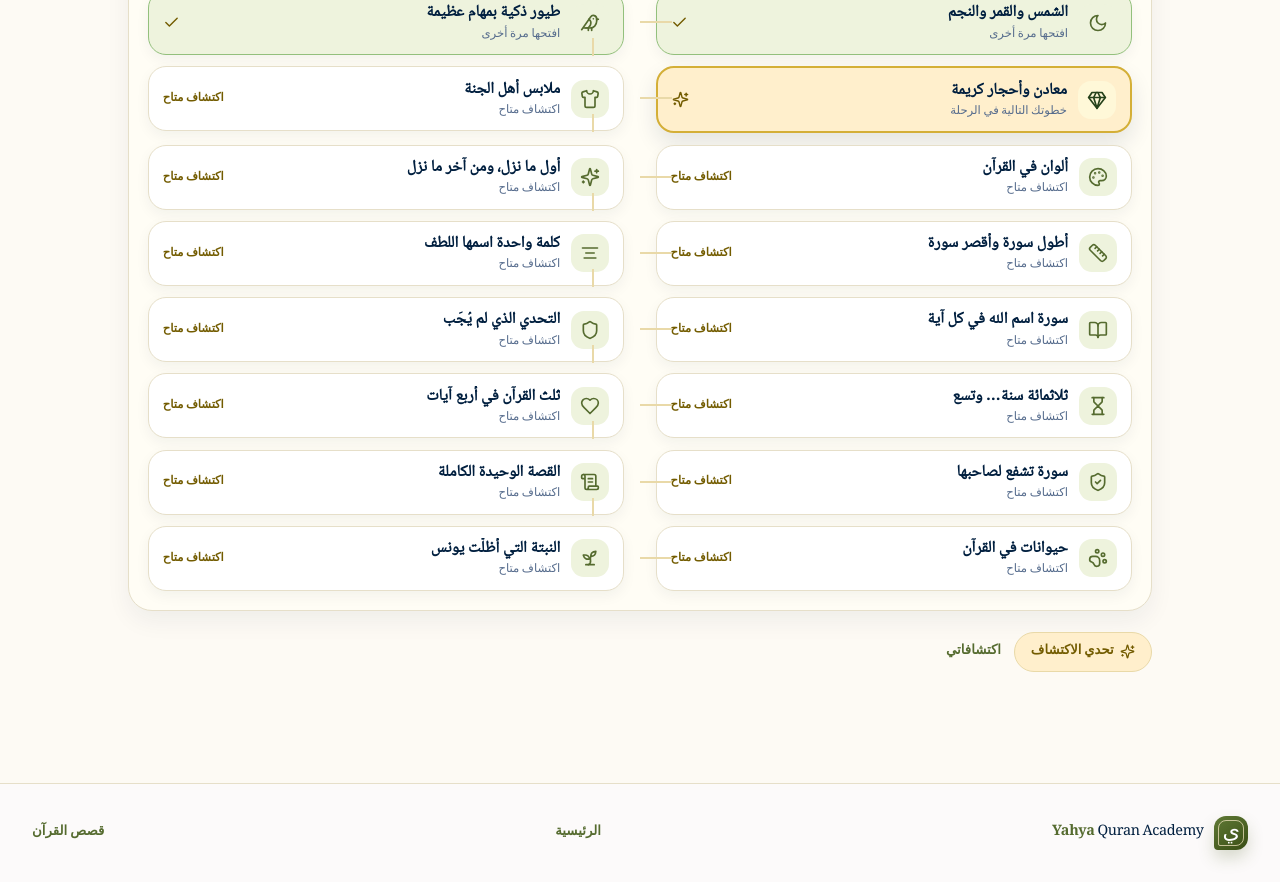
Scenario: the facts quiz › closes the question and offers another once the answer is found
The width and height of the screenshot is (1280, 882).
(page scrolled)
Click the button "تحدي الاكتشاف": (1083, 652) [1014, 632, 1152, 672]
(page scrolled)
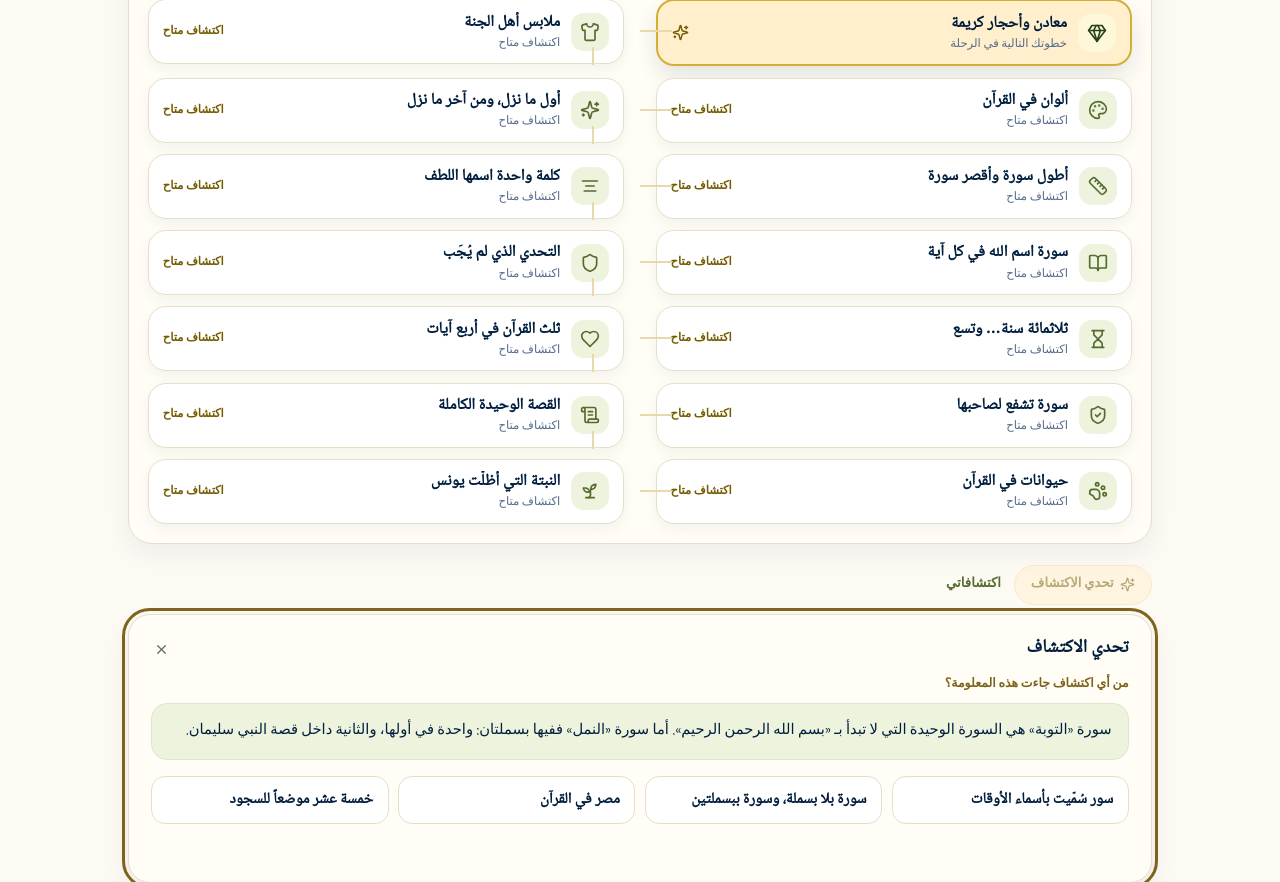
Click the button "سور سُمّيت بأسماء الأوقات": (1010, 800) [892, 776, 1129, 824]
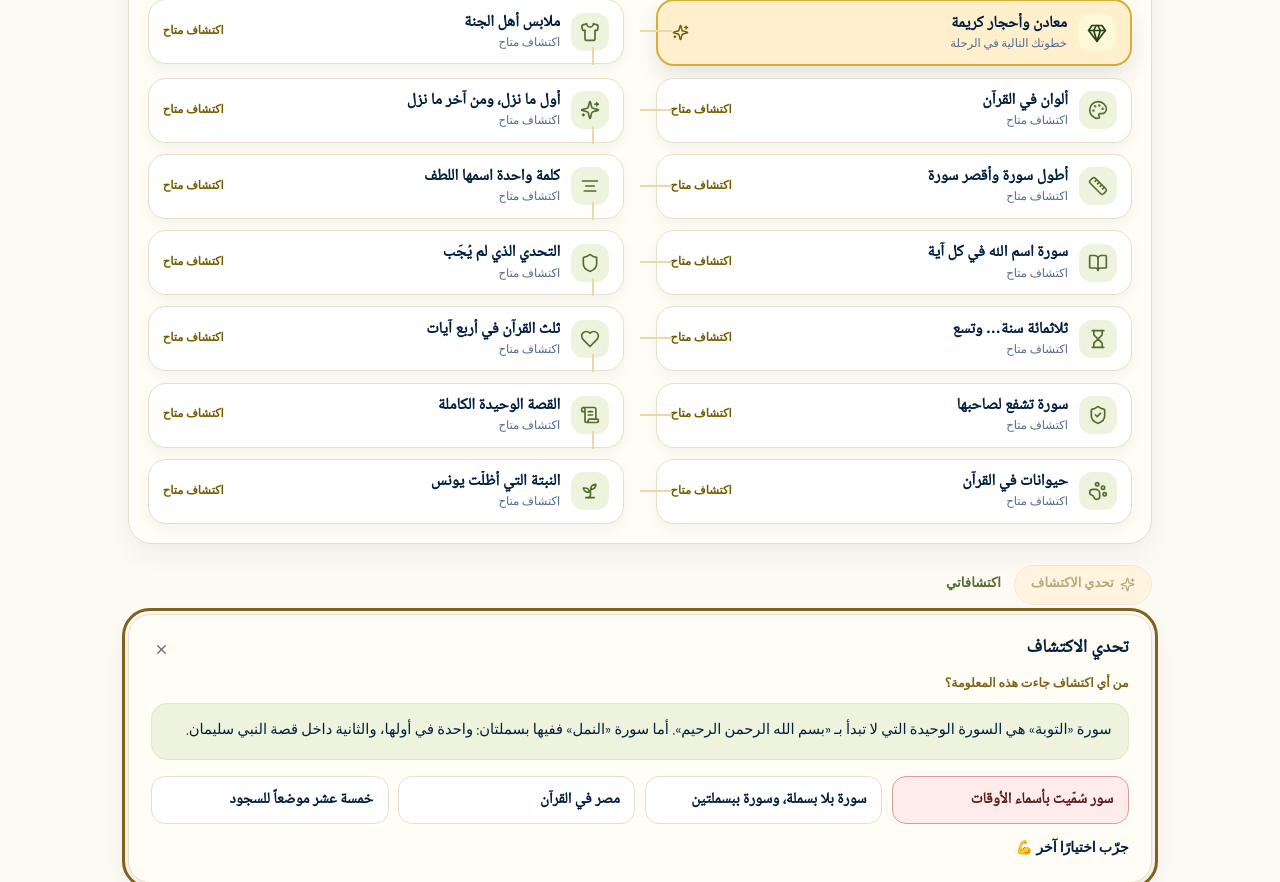
Click the button "سورة بلا بسملة، وسورة ببسملتين": (763, 800) [645, 776, 882, 824]
(page scrolled)
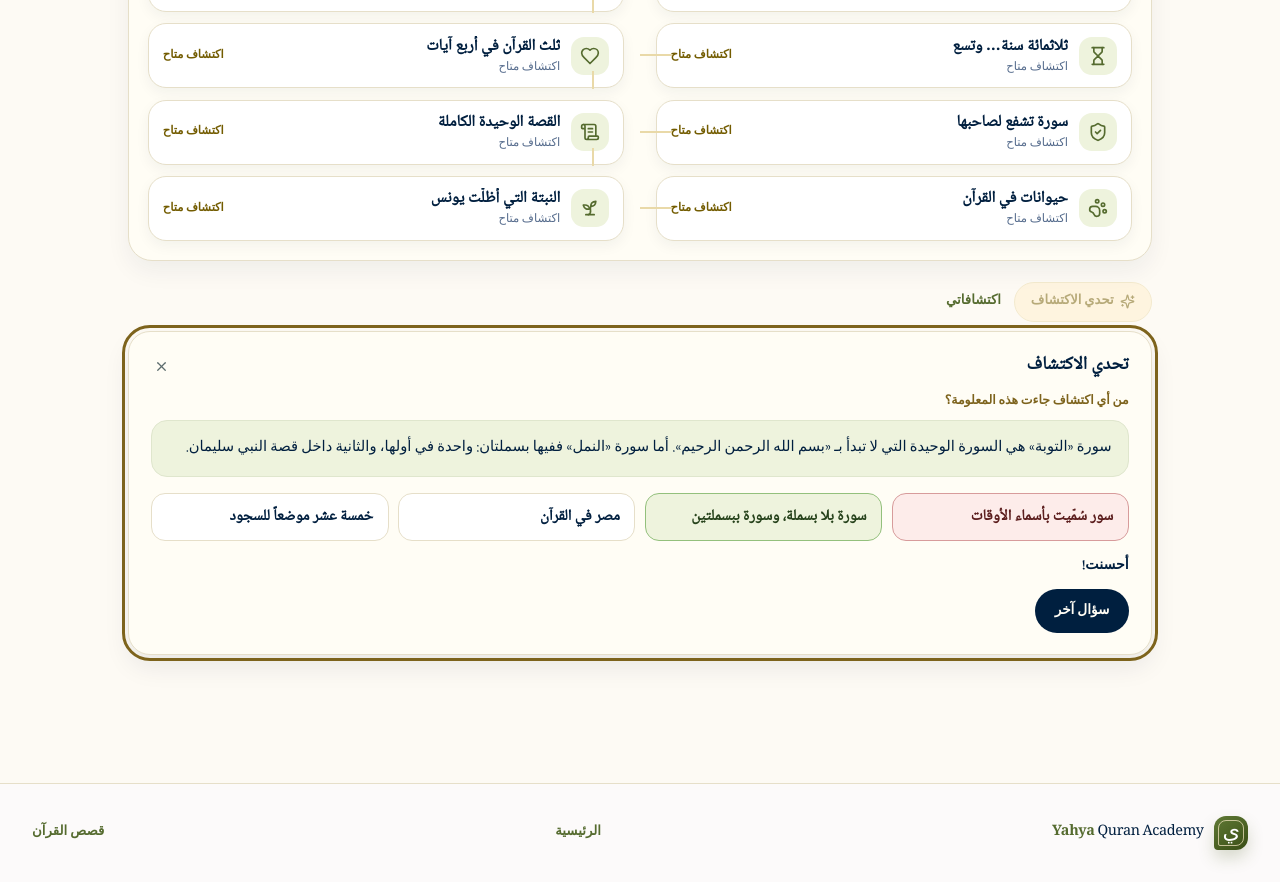
Expected: the button "سؤال آخر" is shown, [1036, 589, 1129, 633]
